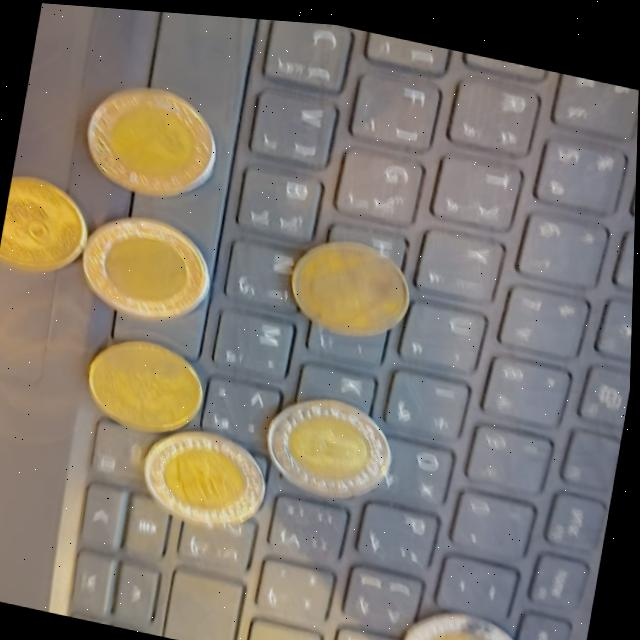Half Pound: (278, 216, 423, 347), (77, 321, 220, 442), (0, 173, 101, 283)
One Pound: (68, 63, 237, 212), (253, 374, 411, 508), (128, 411, 284, 540), (70, 205, 223, 334), (396, 588, 540, 640)
